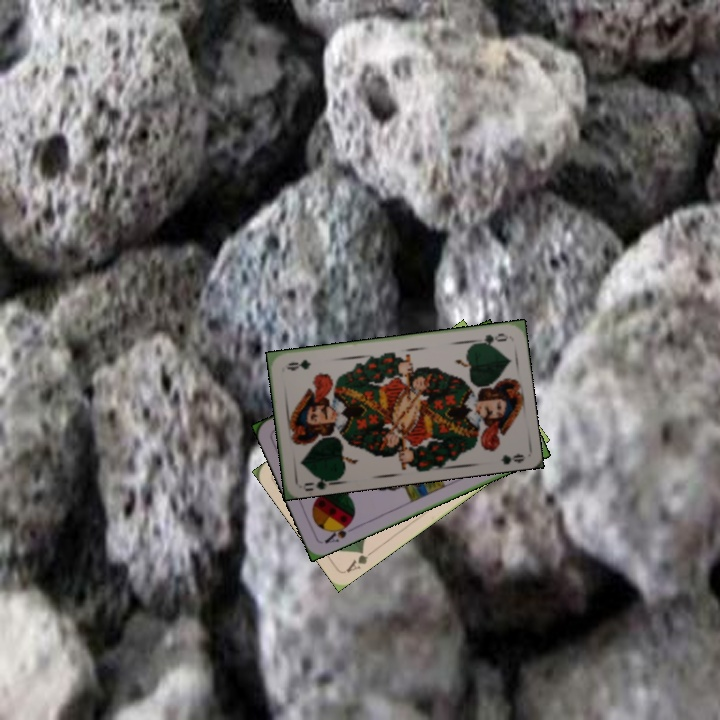GA: (342, 545, 377, 576)
GO: (301, 471, 339, 491), (470, 329, 510, 347)
SA: (321, 517, 355, 546)
